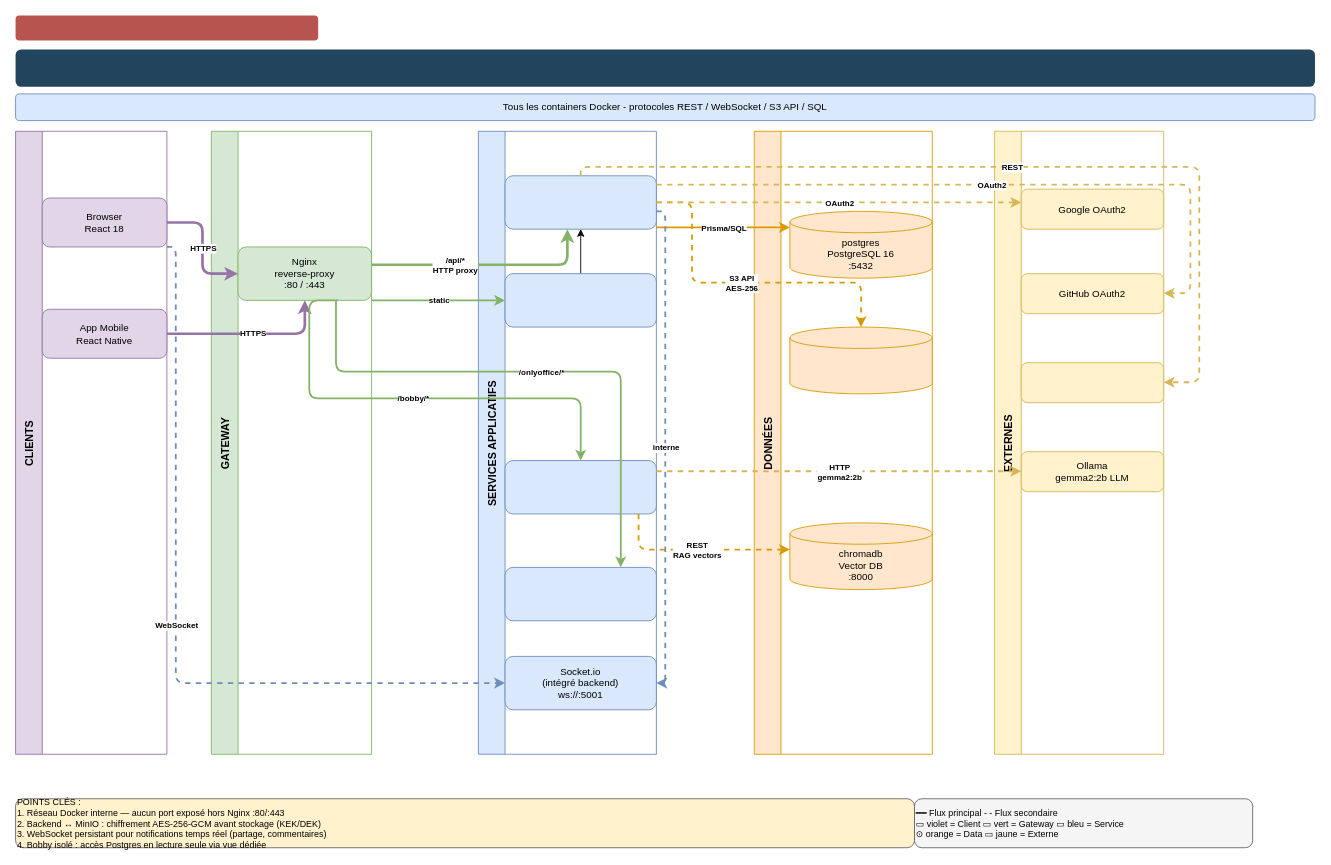
Some shapes in this 1331 by 865 pixel diagram are drawn without their labels. Each missing label, with the box of its shape:
4PROJ - Projet de fin d'année: (15, 15, 318, 40)
backend Node.js + Express :5001: (504, 175, 656, 229)
bobby FastAPI + LangChain :8001: (504, 460, 656, 514)
frontend Nginx static :80: (504, 273, 656, 327)
minio Object Storage :9000 / :9001: (789, 326, 932, 394)
onlyoffice Document Server :8080: (504, 566, 656, 621)
Stripe Payment API: (1020, 362, 1164, 403)
SUPFile - Flux entre Containers (C4 Level 2): (15, 49, 1315, 86)
